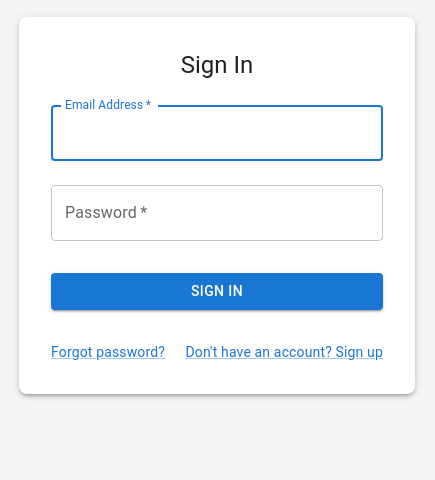
Scenario: Login component › shows error for invalid credentials
The width and height of the screenshot is (435, 480).
Note: Fill form with valid data
Step 1. Type "test@example.com" into the field labelled "Email Address *" → (217, 133), box [51, 105, 383, 161]
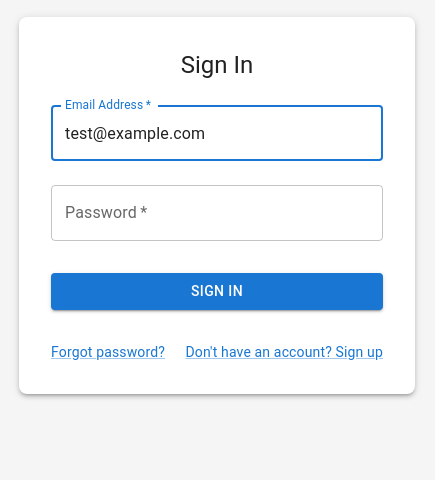
Step 2. Type "password123" into the password field labelled "Password *" → (217, 213), box [51, 185, 383, 241]
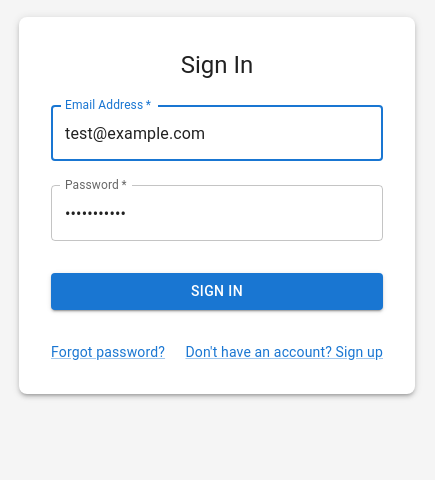
Note: Submit form
Step 3. Click the button "Sign In" → (217, 292), box [51, 273, 383, 310]
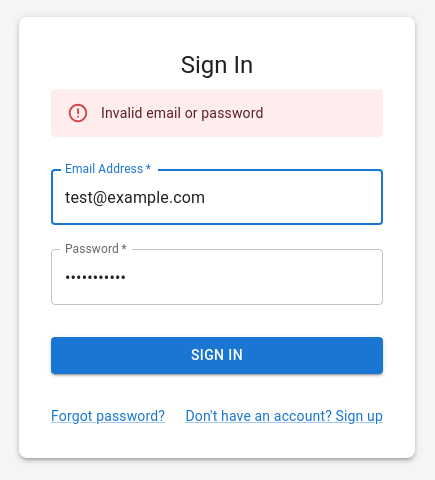
Now the message reads "Invalid email or password", box [101, 105, 264, 121]
